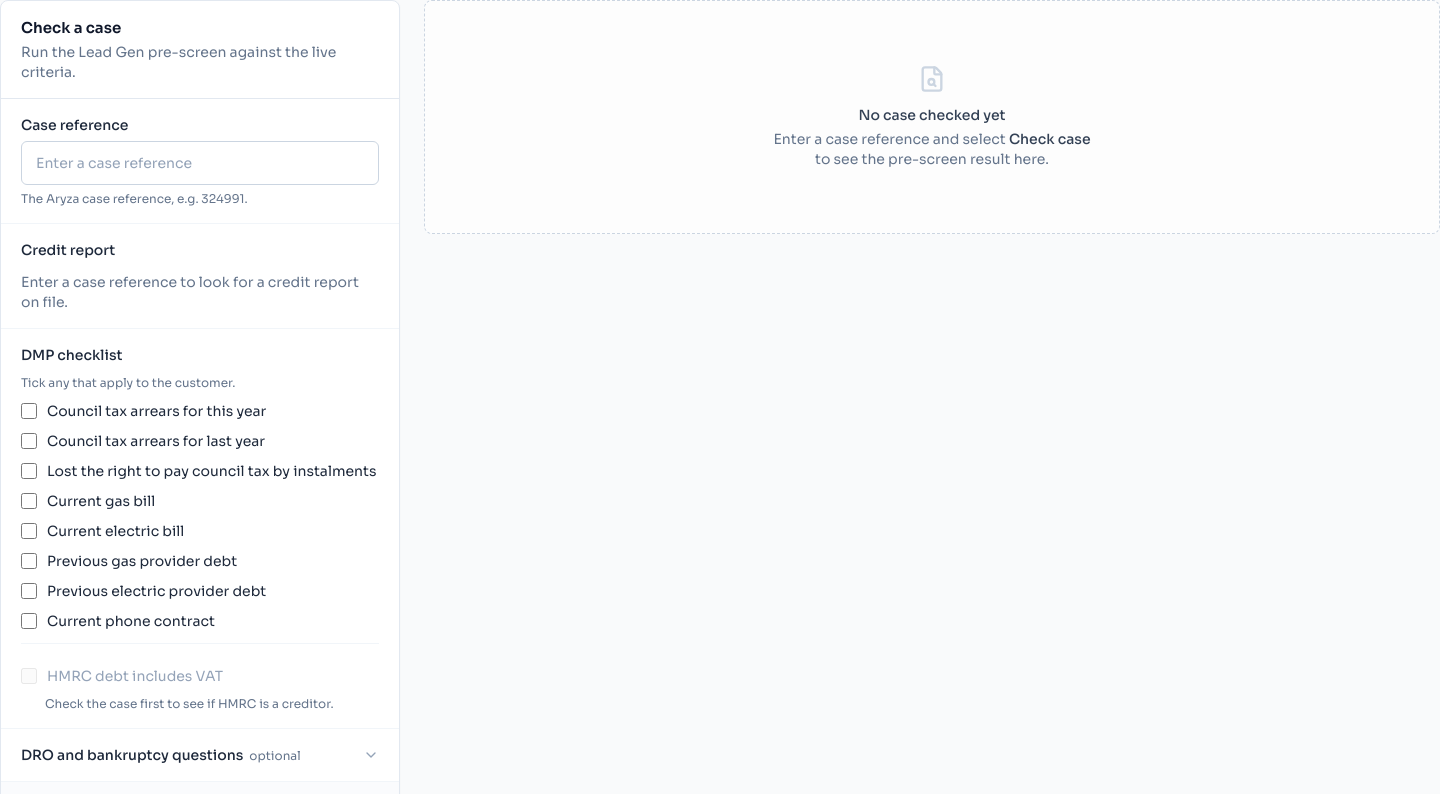
it: LeadGenCheckPanel › shows an existing credit report and no upload control
Type "123456" into the field labelled "Case reference" at (200, 162), box [21,140,379,184]
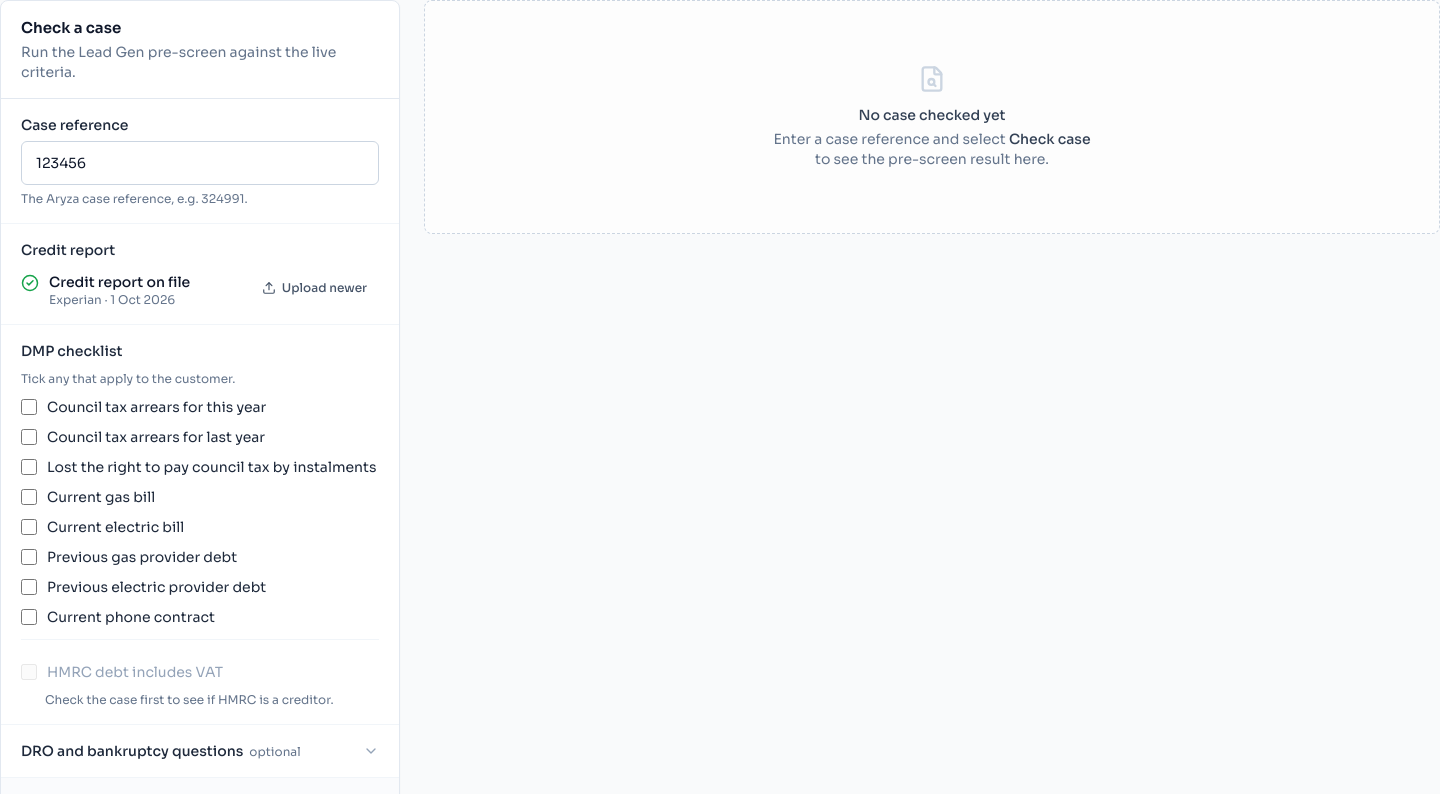
Expected: the text "Credit report on file" is shown, [49,272,190,292]
Expected: the text "Experian · 1 Oct 2026" is shown, [49,292,190,308]
